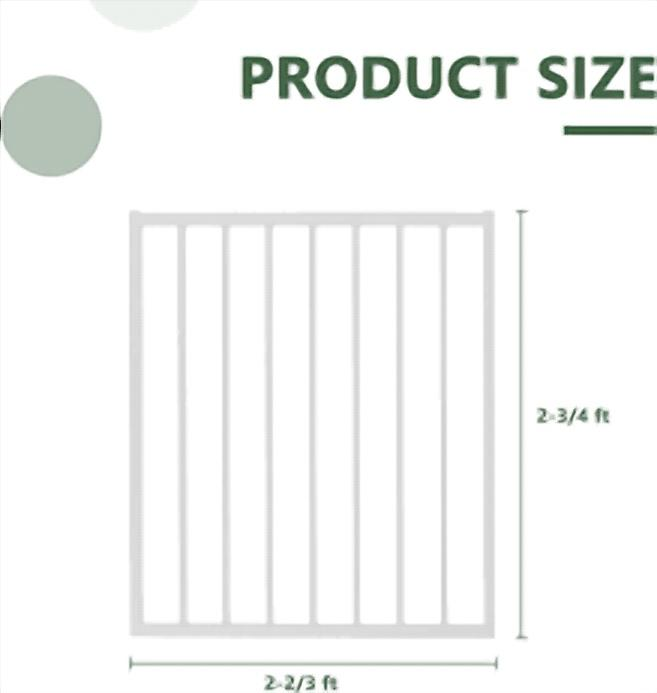Gate: (126, 210, 497, 641)
